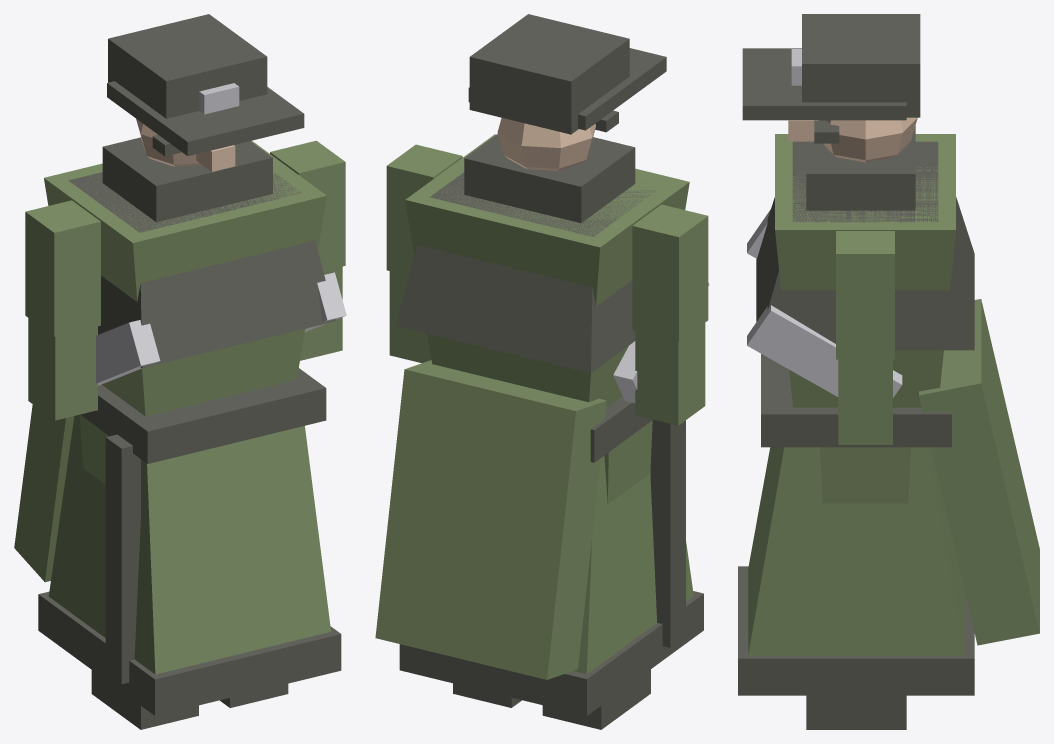
The model's file is unit_hero_rigged.glb.
3 renders of one model, left to right at view 1: azimuth 30°, elevation 25°; view 2: azimuth 150°, elevation 25°; view 3: azimuth 270°, elevation 25°, orthographic.
Parts seen in each view (by area): view 1: body_root, body_torso, accent_torso, accent_head, accent_root, body_arm-right, body_elbow-right, body_arm-left, trim_torso, accent_leg-right, skin_head, body_elbow-left (+3 smaller); view 2: body_torso, accent_torso, accent_head, accent_root, body_root, body_arm-right, body_elbow-right, body_arm-left, skin_head, body_leg-right, body_elbow-left, accent_leg-right (+2 smaller); view 3: body_torso, body_root, accent_head, accent_root, accent_torso, body_arm-left, body_leg-left, trim_torso, body_elbow-left, skin_head, accent_leg-left.
Boxes of the visible parts, left/top/right/bottom form: body_root: left=48, top=414, right=330, bottom=674; body_torso: left=14, top=140, right=326, bottom=582; accent_torso: left=68, top=172, right=336, bottom=684; accent_head: left=102, top=14, right=304, bottom=222; accent_root: left=38, top=368, right=341, bottom=715; body_arm-right: left=25, top=200, right=100, bottom=336; body_elbow-right: left=28, top=318, right=97, bottom=420; body_arm-left: left=270, top=140, right=345, bottom=271; trim_torso: left=96, top=272, right=346, bottom=385; accent_leg-right: left=91, top=670, right=198, bottom=729; skin_head: left=136, top=118, right=235, bottom=171; body_elbow-left: left=300, top=266, right=342, bottom=360; body_torso: left=375, top=134, right=689, bottom=679; accent_torso: left=396, top=172, right=685, bottom=647; accent_head: left=464, top=14, right=666, bottom=222; accent_root: left=399, top=396, right=703, bottom=715; body_root: left=574, top=456, right=693, bottom=674; body_arm-right: left=632, top=204, right=708, bottom=341; body_elbow-right: left=635, top=323, right=705, bottom=425; body_arm-left: left=386, top=144, right=462, bottom=275; skin_head: left=497, top=118, right=595, bottom=170; body_leg-right: left=604, top=420, right=652, bottom=504; body_elbow-left: left=389, top=271, right=431, bottom=362; accent_leg-right: left=542, top=669, right=650, bottom=729; body_torso: left=775, top=134, right=1039, bottom=645; body_root: left=748, top=447, right=964, bottom=655; accent_head: left=742, top=14, right=920, bottom=210; accent_root: left=738, top=354, right=974, bottom=695; accent_torso: left=756, top=141, right=974, bottom=350; body_arm-left: left=836, top=231, right=894, bottom=359; body_leg-left: left=820, top=447, right=910, bottom=503; trim_torso: left=747, top=209, right=902, bottom=397; body_elbow-left: left=838, top=359, right=892, bottom=444; skin_head: left=788, top=117, right=917, bottom=162; accent_leg-left: left=806, top=695, right=906, bottom=729.
Size of the model in its own units: 1.31 by 2.76 by 1.15.
